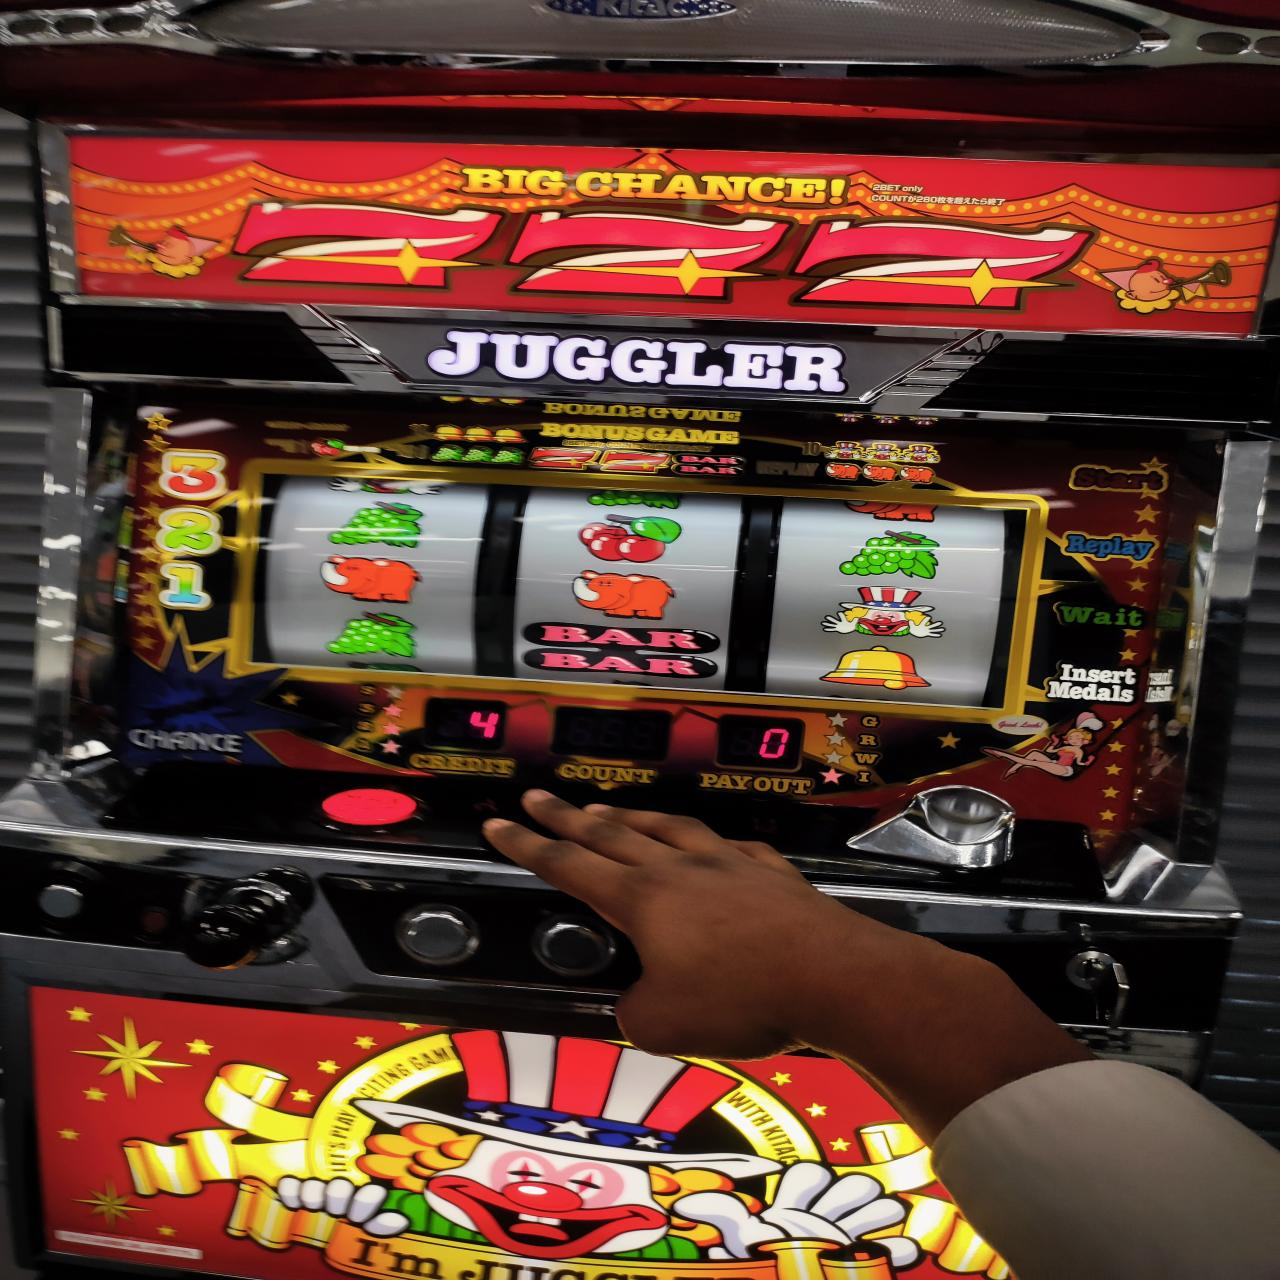8: (316, 553, 423, 605), (571, 570, 679, 619)
Display: (257, 475, 1009, 710), (823, 586, 948, 639)
bar: (523, 620, 720, 680)
cherry: (576, 513, 679, 561)
clown: (818, 648, 931, 690)
grape: (837, 530, 942, 580), (326, 608, 416, 661), (326, 501, 422, 550)
